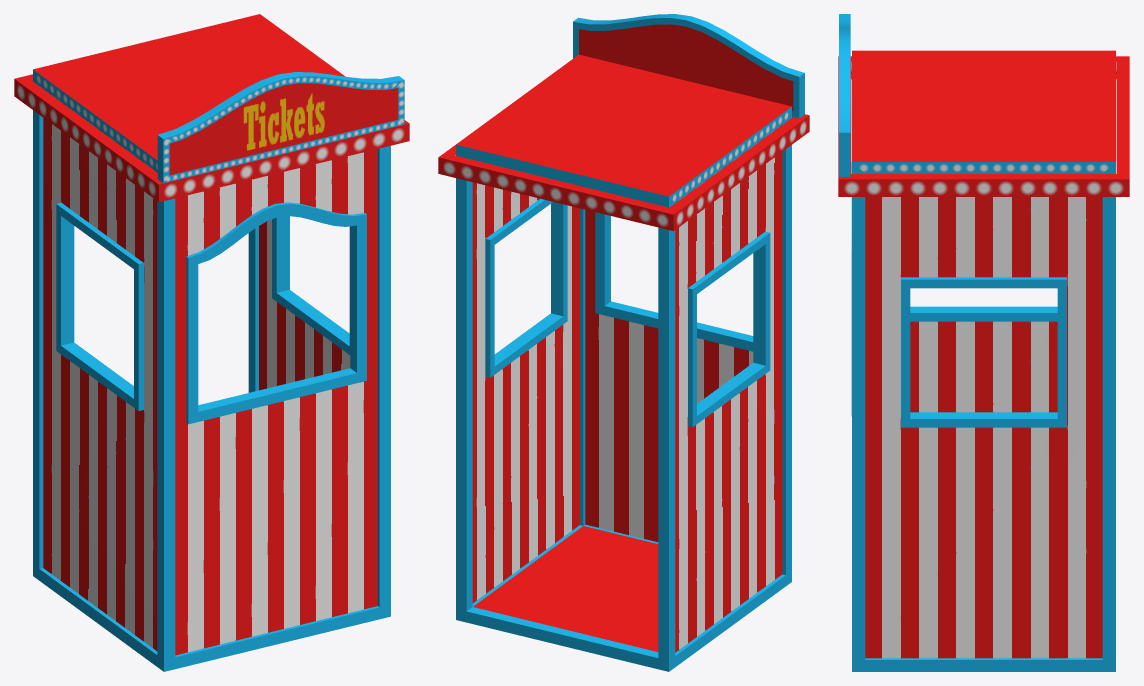
Rendered from Stand_Tickets.obj.
The picture shows the model from 3 angles, left to right: view 1: azimuth 30°, elevation 25°; view 2: azimuth 150°, elevation 25°; view 3: azimuth 270°, elevation 25°; orthographic projection. The views are drawn at different scales.
Parts seen in each view (by area): view 1: Stand_Dados; view 2: Stand_Dados; view 3: Stand_Dados.
Part boxes in pixels (x1=…): Stand_Dados: x1=14, y1=14, x2=409, y2=671; Stand_Dados: x1=438, y1=14, x2=809, y2=671; Stand_Dados: x1=838, y1=14, x2=1129, y2=671.
Bounding box in the file's own units: 1.1 × 2.4 × 1.1.
6 materials, 6 textured.
